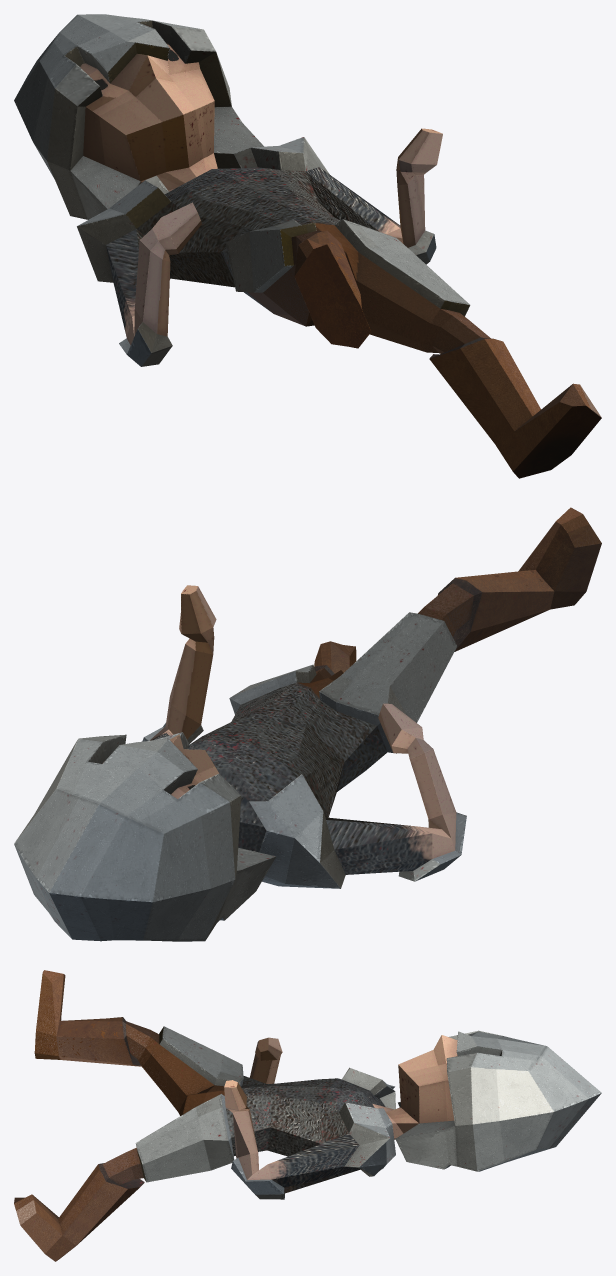
File: Walk_Soldier_4.obj
The picture shows the model from 3 angles, top to bottom: view 1: azimuth 30°, elevation 25°; view 2: azimuth 150°, elevation 25°; view 3: azimuth 270°, elevation 25°; orthographic projection. The views are drawn at different scales.
Visible parts, largest first — view 1: Soldado_LowPolySTD; view 2: Soldado_LowPolySTD; view 3: Soldado_LowPolySTD.
Boxes of the visible parts, x1,y1,x2,y2 form: Soldado_LowPolySTD: [14, 14, 601, 478]; Soldado_LowPolySTD: [14, 507, 601, 941]; Soldado_LowPolySTD: [14, 970, 601, 1261].
Size of the model in its own units: 0.7009 by 0.6437 by 1.62.
